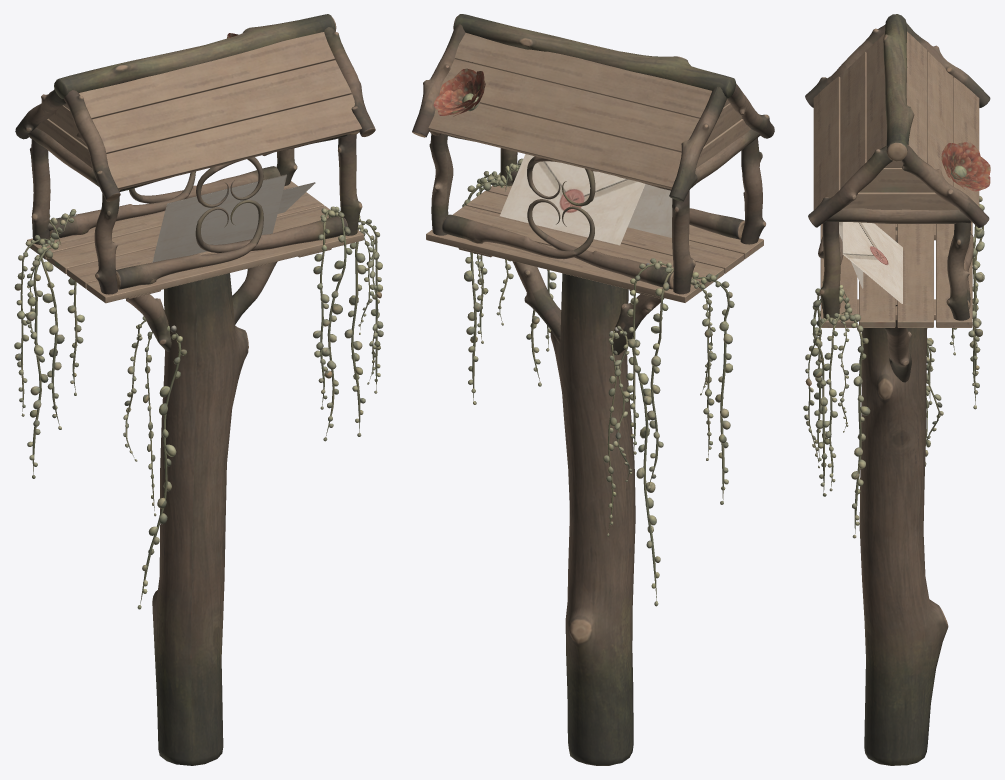
File: mailbox.glb
3 renders of one model, left to right at view 1: azimuth 30°, elevation 25°; view 2: azimuth 150°, elevation 25°; view 3: azimuth 270°, elevation 25°, orthographic. The views are drawn at different scales.
Parts seen in each view (by area): view 1: Mailbox_Static; view 2: Mailbox_Static, Submission_Envelope; view 3: Mailbox_Static, Submission_Envelope.
Boxes of the visible parts, x1,y1,x2,y2 form: Mailbox_Static: (14,14,383,765); Mailbox_Static: (412,14,774,765); Submission_Envelope: (500,154,645,245); Mailbox_Static: (803,14,990,765); Submission_Envelope: (842,222,902,303).
Size of the model in its own units: 1.89 by 4.17 by 1.03.
1 material, 1 textured.
